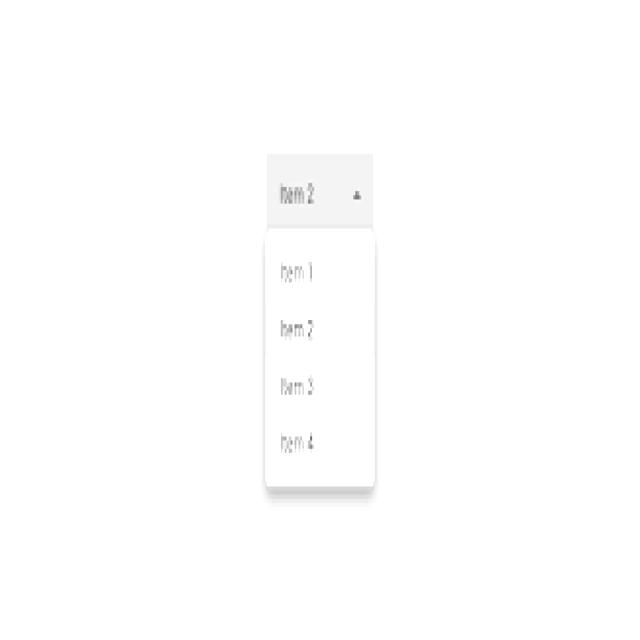dropdownMenu: (266, 150, 374, 490)
menuItem: (274, 306, 320, 348), (273, 422, 319, 458), (275, 250, 317, 288), (275, 366, 320, 400)
